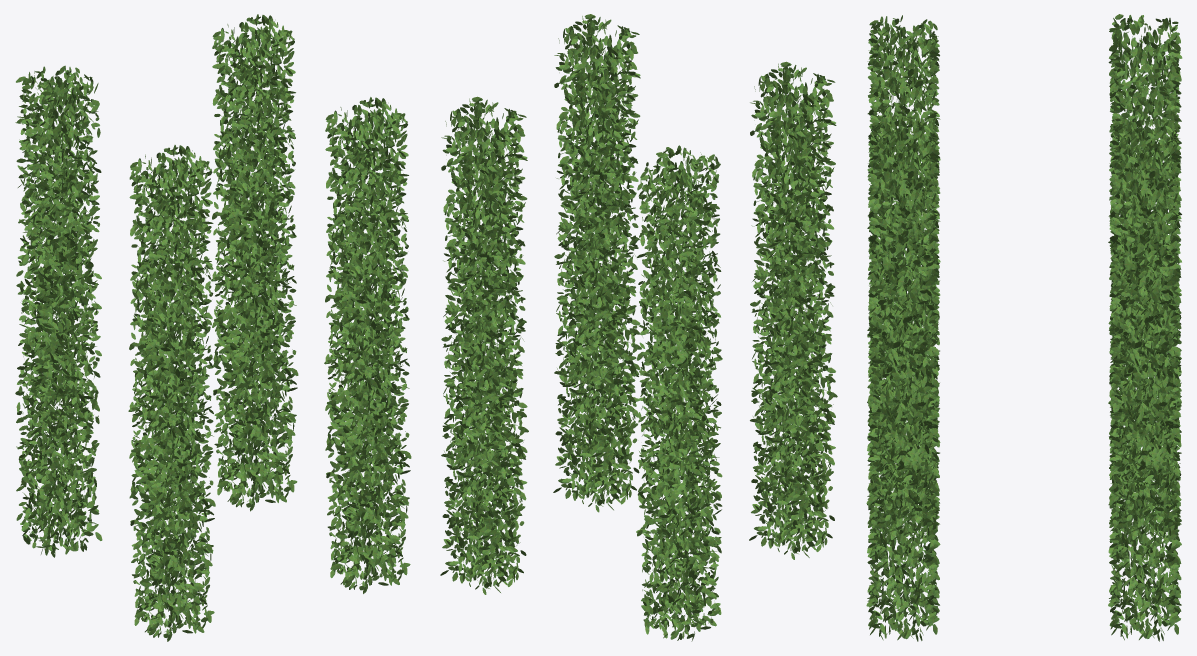
File: +_Path.glb
3 views of the same model, side by side, from view 1: azimuth 30°, elevation 25°; view 2: azimuth 150°, elevation 25°; view 3: azimuth 270°, elevation 25° (orthographic). The views are drawn at different scales.
Visible parts, largest first — view 1: Cube.002, Cube.004, Cube.003, Cube.001; view 2: Cube.001, Cube.004, Cube.002, Cube.003; view 3: Cube.003, Cube.002, Cube.001, Cube.004.
Boxes of the visible parts, x1,y1,x2,y2 form: Cube.002: (211, 14, 298, 511); Cube.004: (128, 145, 215, 641); Cube.003: (324, 97, 411, 593); Cube.001: (15, 65, 102, 557); Cube.001: (636, 145, 722, 641); Cube.004: (749, 61, 837, 559); Cube.002: (440, 96, 528, 594); Cube.003: (553, 14, 641, 512); Cube.003: (866, 117, 940, 641); Cube.002: (1108, 117, 1181, 641); Cube.001: (1108, 14, 1182, 538); Cube.004: (866, 15, 940, 538).
Size of the model in its own units: 5.24 by 9.22 by 5.24.
1 material, 1 textured.
